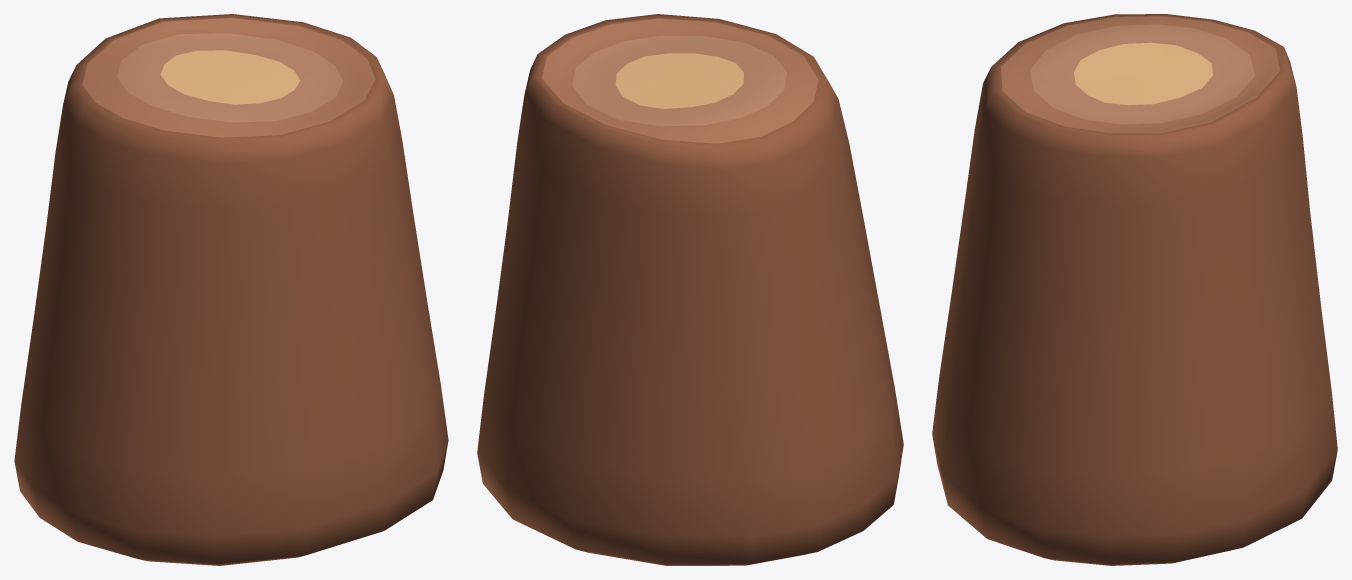
The model's file is Stump_B_03.fbx.
3 views of the same model, side by side, from view 1: azimuth 30°, elevation 25°; view 2: azimuth 150°, elevation 25°; view 3: azimuth 270°, elevation 25° (orthographic).
Visible parts, largest first — view 1: Stump_B_03_LOD0; view 2: Stump_B_03_LOD0; view 3: Stump_B_03_LOD0.
Part boxes in pixels (<box>): Stump_B_03_LOD0: <box>14,14,448,565</box>; Stump_B_03_LOD0: <box>477,14,903,565</box>; Stump_B_03_LOD0: <box>932,14,1337,565</box>.
Size of what is drawn, in the model's own units: 261 by 278 by 243.
